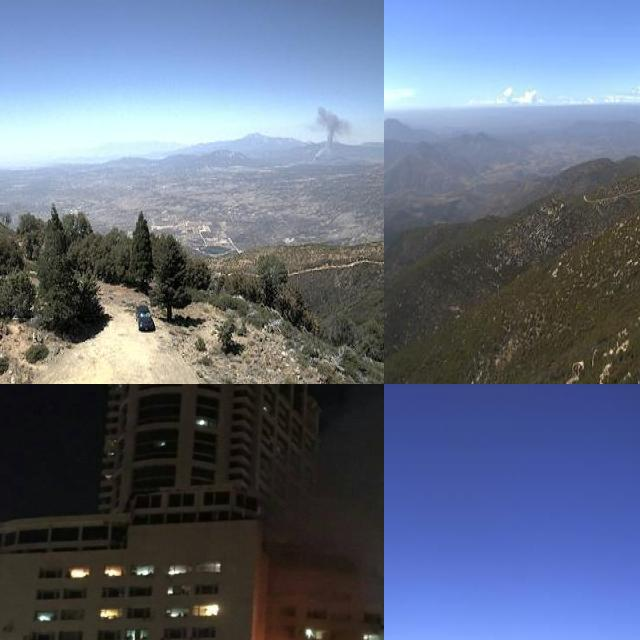smoke: (290, 384, 384, 640), (303, 102, 353, 167)
